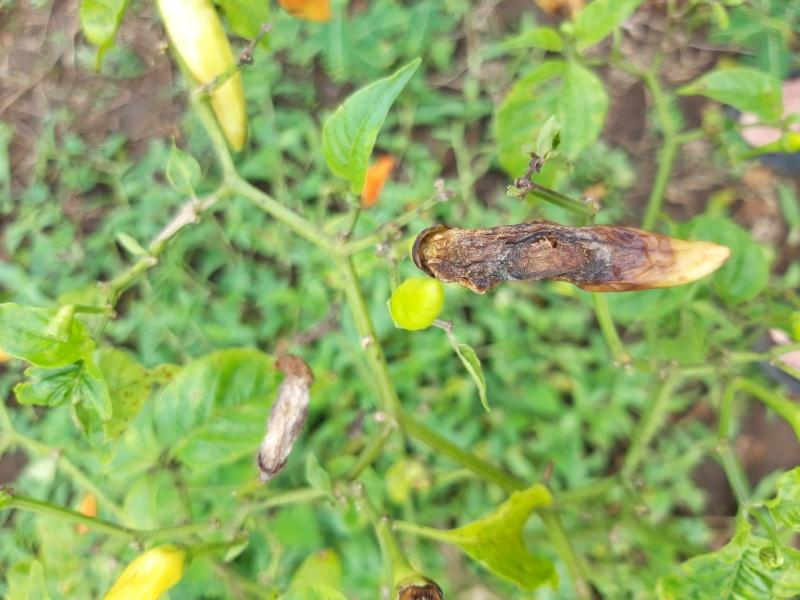antraknosa: (420, 220, 731, 294), (257, 353, 314, 478)
cabai_normal: (104, 544, 185, 600), (389, 277, 440, 331)
